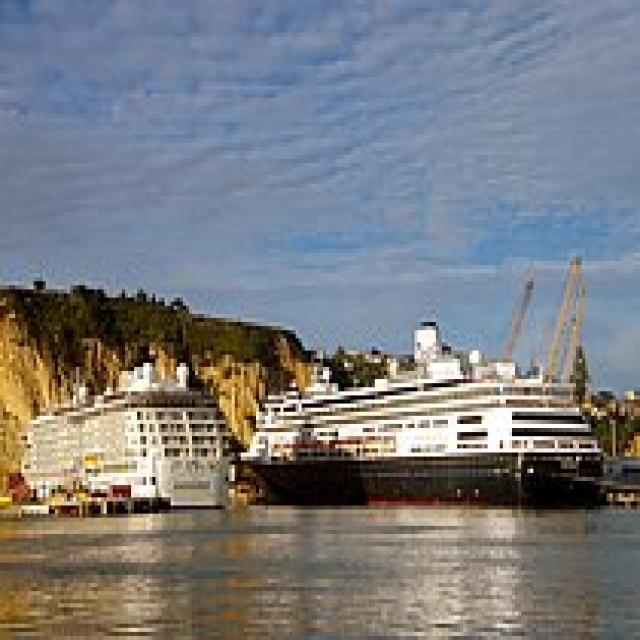Ship: (227, 311, 626, 515), (19, 347, 242, 527)
